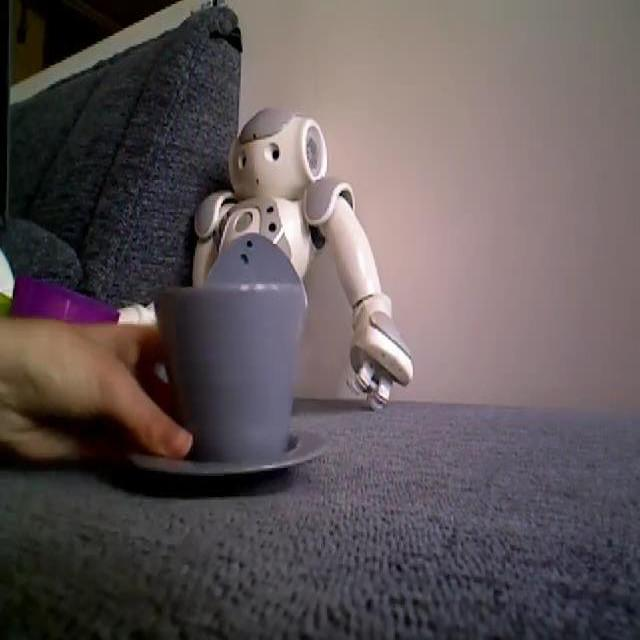cup: (116, 282, 334, 483)
